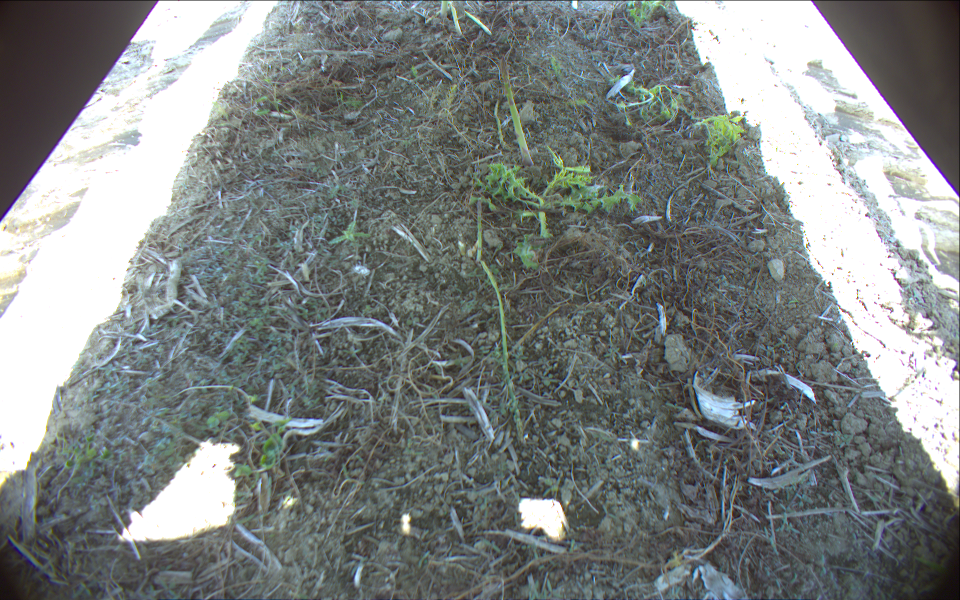aspa: (478, 260, 524, 440), (500, 56, 533, 166), (465, 10, 492, 36), (476, 195, 486, 260), (449, 1, 463, 36), (439, 1, 450, 20)
